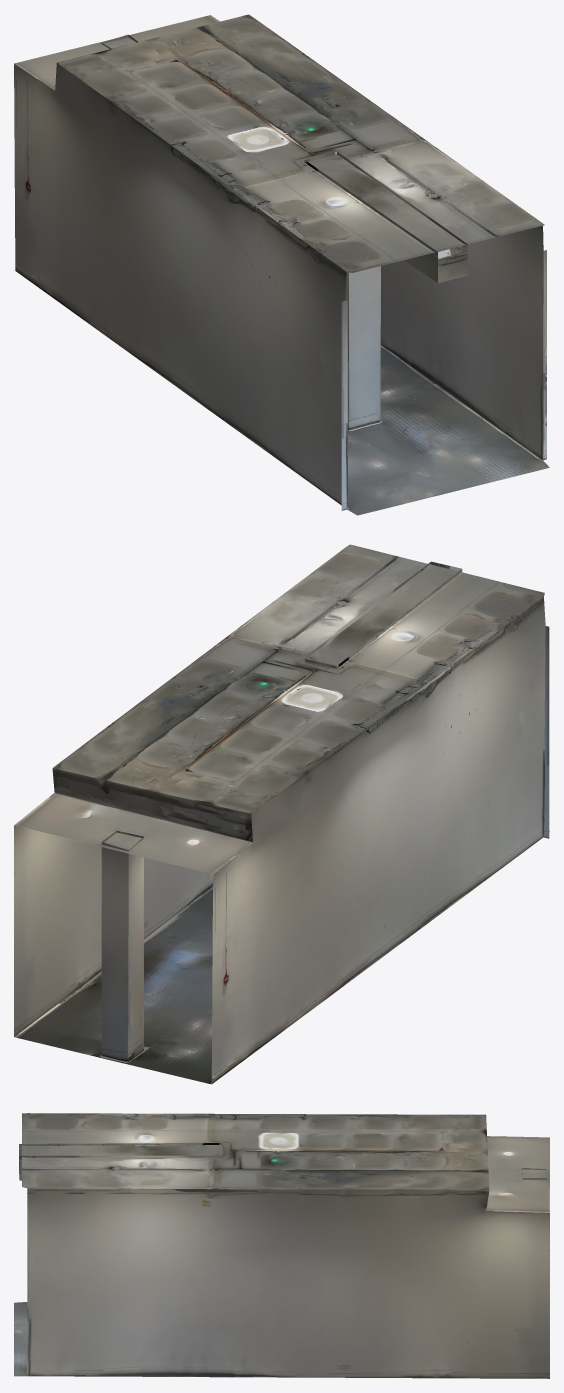
Rendered from Atrium-ent-v2.fbx.
The picture shows the model from 3 angles, top to bottom: view 1: azimuth 30°, elevation 25°; view 2: azimuth 150°, elevation 25°; view 3: azimuth 270°, elevation 25°; orthographic projection. The views are drawn at different scales.
Visible parts, largest first — view 1: Atrium-ent-v2; view 2: Atrium-ent-v2; view 3: Atrium-ent-v2.
Boxes of the visible parts, x1=… form: Atrium-ent-v2: x1=14, y1=14, x2=549, y2=515; Atrium-ent-v2: x1=14, y1=544, x2=549, y2=1084; Atrium-ent-v2: x1=14, y1=1113, x2=549, y2=1378.
Bounding box in the file's own units: 308 × 352 × 879.
1 material, 1 textured.
